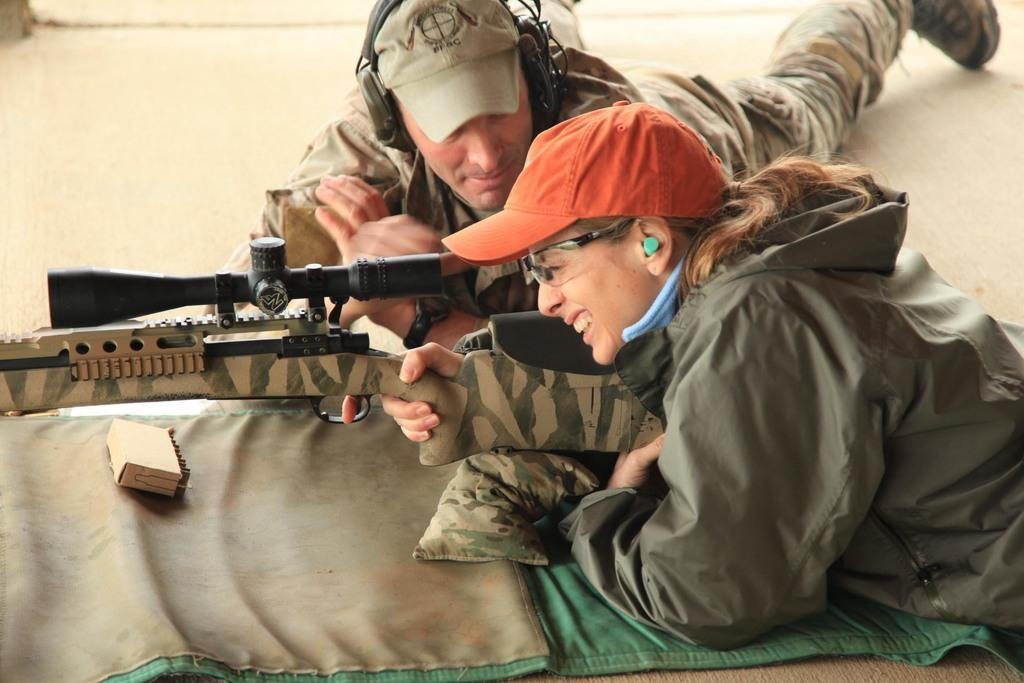Hat: (440, 96, 721, 270), (374, 0, 518, 140)
